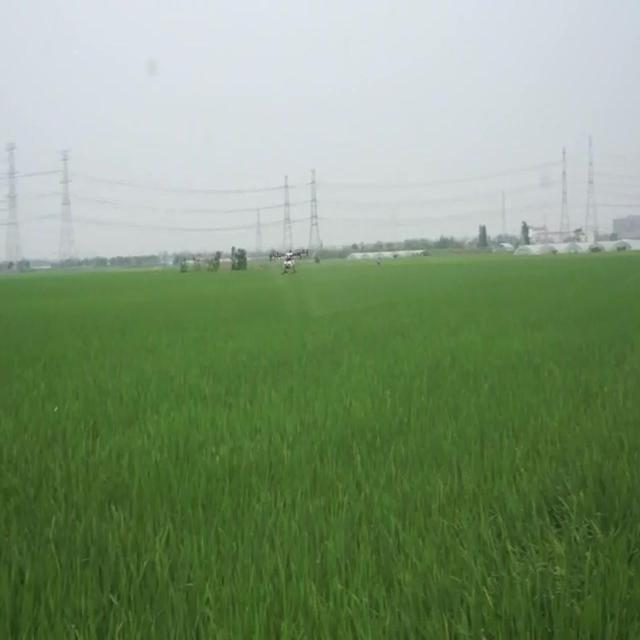drone: (270, 245, 311, 278)
